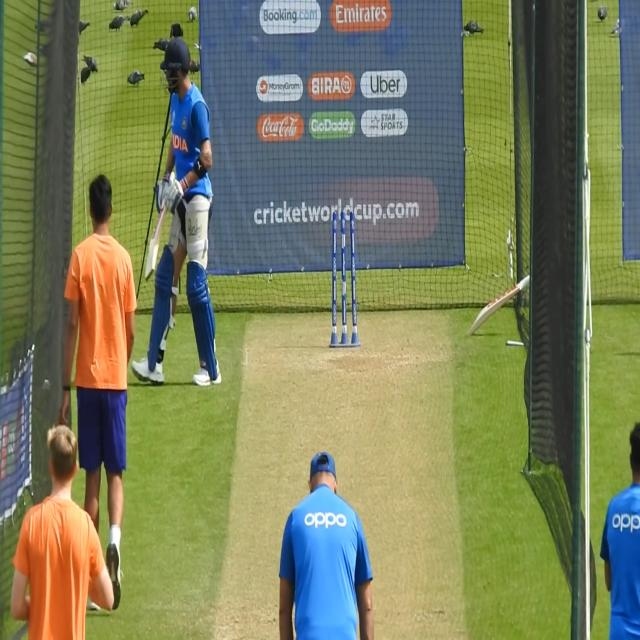stump: (328, 210, 359, 347)
